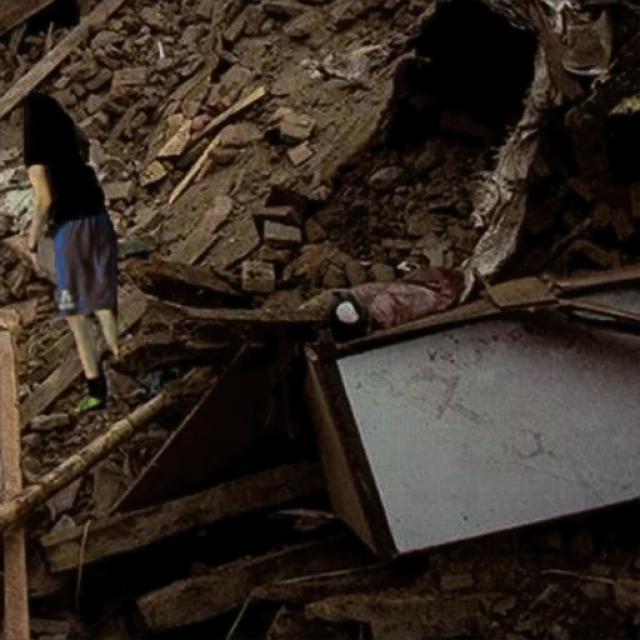Person in Rubble: (23, 91, 116, 410)
